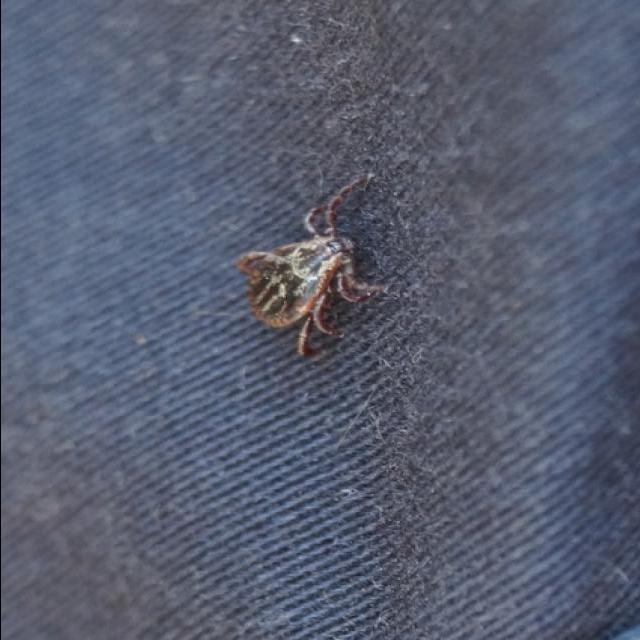Dermacentor Reticulatus-M: (235, 177, 382, 356)
